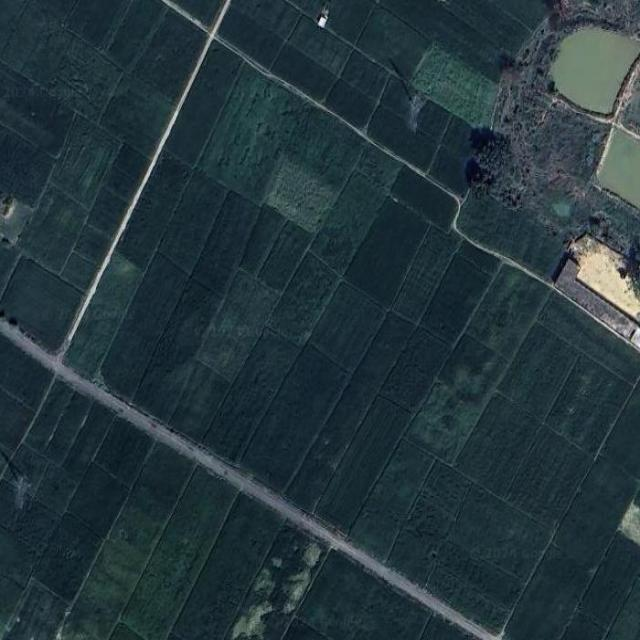land-Sx1C: (473, 83, 640, 265), (60, 442, 197, 640), (284, 313, 414, 515), (121, 463, 241, 640), (238, 346, 350, 494), (173, 494, 286, 640), (197, 65, 309, 209), (313, 396, 415, 538), (201, 328, 302, 468), (405, 334, 509, 465), (132, 278, 224, 425), (224, 516, 332, 640), (102, 253, 188, 406), (297, 548, 432, 640), (378, 0, 512, 87), (386, 461, 470, 592), (347, 439, 435, 562), (62, 251, 145, 380), (456, 189, 569, 282), (449, 484, 553, 585), (162, 39, 244, 167), (553, 455, 639, 571), (343, 198, 430, 312), (504, 425, 593, 535), (537, 292, 640, 384), (117, 148, 193, 271), (454, 394, 541, 499), (546, 354, 633, 459), (495, 321, 582, 423), (200, 273, 280, 383), (466, 263, 555, 361), (502, 545, 593, 640), (420, 241, 503, 345), (0, 258, 86, 354), (412, 46, 501, 138), (132, 7, 208, 107), (311, 174, 386, 275), (551, 30, 640, 114), (286, 105, 369, 195), (158, 171, 226, 275), (14, 183, 89, 277), (0, 64, 75, 158), (48, 114, 121, 210), (193, 191, 259, 297), (266, 254, 340, 346), (309, 284, 386, 372), (100, 73, 177, 160), (393, 226, 460, 325), (379, 327, 452, 414), (578, 534, 640, 634), (32, 515, 102, 603), (439, 542, 524, 612), (264, 160, 340, 236), (358, 6, 431, 82), (168, 361, 232, 446), (428, 568, 509, 634), (427, 117, 488, 201), (365, 105, 440, 173), (440, 0, 532, 55), (57, 37, 123, 111), (92, 414, 156, 490), (0, 125, 56, 209), (104, 0, 170, 71), (380, 77, 452, 142), (589, 126, 640, 214), (0, 481, 61, 554), (392, 165, 458, 232), (214, 8, 284, 70), (69, 466, 129, 537), (63, 401, 116, 480), (271, 42, 336, 106), (0, 334, 53, 412), (261, 222, 315, 294), (601, 382, 640, 481), (289, 15, 354, 74), (292, 0, 377, 45), (1, 584, 68, 640), (23, 378, 73, 453), (43, 390, 93, 465), (21, 18, 71, 89), (2, 3, 50, 72), (242, 204, 286, 279), (64, 0, 127, 49), (228, 1, 301, 40), (324, 79, 375, 131), (341, 49, 390, 102), (46, 79, 102, 124), (356, 143, 403, 196), (3, 444, 49, 495), (0, 388, 34, 453), (0, 529, 38, 586), (36, 464, 79, 514), (608, 578, 640, 640), (86, 190, 129, 236), (492, 0, 552, 32), (171, 1, 228, 34), (420, 612, 480, 640), (73, 226, 112, 267), (112, 144, 150, 182), (0, 0, 26, 55), (102, 166, 139, 203), (0, 202, 31, 245), (0, 575, 22, 634), (62, 255, 97, 291), (0, 236, 20, 297), (561, 615, 606, 640), (32, 0, 75, 22), (282, 620, 329, 640), (619, 503, 640, 544), (111, 624, 142, 639), (0, 445, 11, 476)
